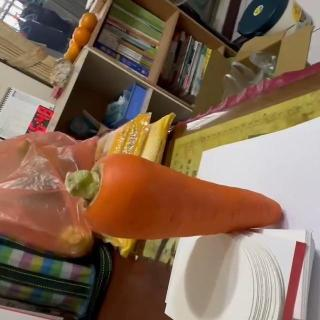carrot: (63, 152, 283, 241)
